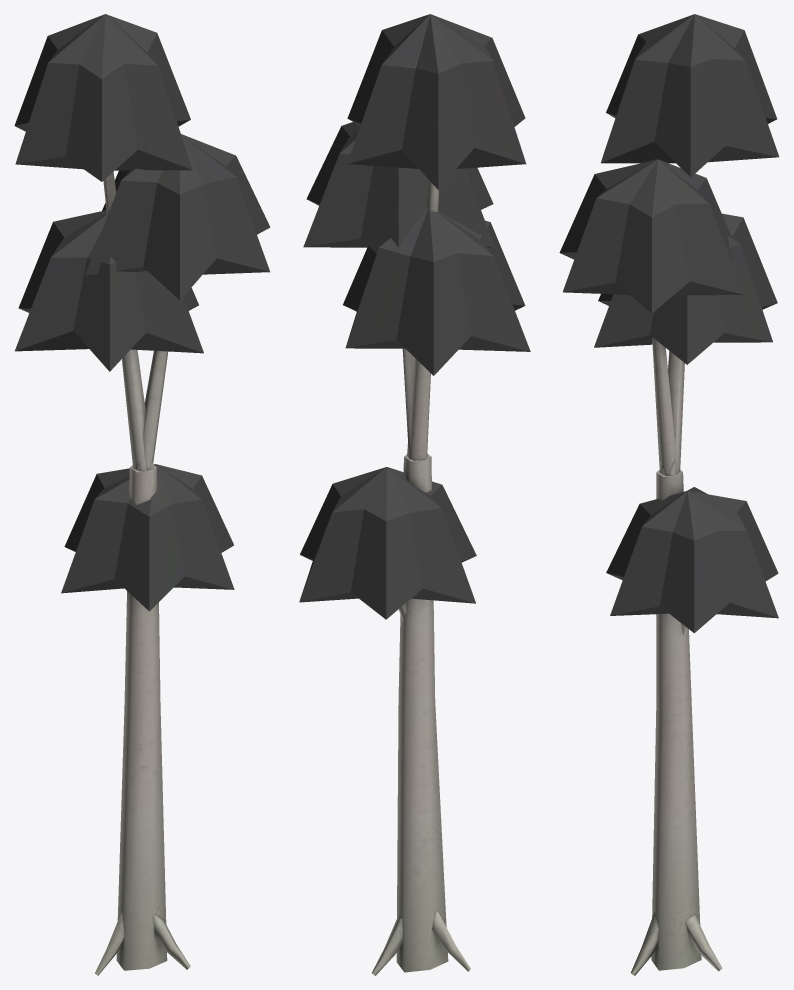
The model's file is arv_betula_6.glb.
The picture shows the model from 3 angles, left to right: view 1: azimuth 30°, elevation 25°; view 2: azimuth 150°, elevation 25°; view 3: azimuth 270°, elevation 25°; orthographic projection. The views are drawn at different scales.
Parts seen in each view (by area): view 1: arv_betula_6_corpo; view 2: arv_betula_6_corpo; view 3: arv_betula_6_corpo.
Part boxes in pixels (x1,y1,x2,y2): arv_betula_6_corpo: (14,14,270,975); arv_betula_6_corpo: (299,14,530,975); arv_betula_6_corpo: (559,14,779,975).
Size of the model in its own units: 0.7357 by 2.79 by 0.594.
Materials: 1 (1 with a texture image).
